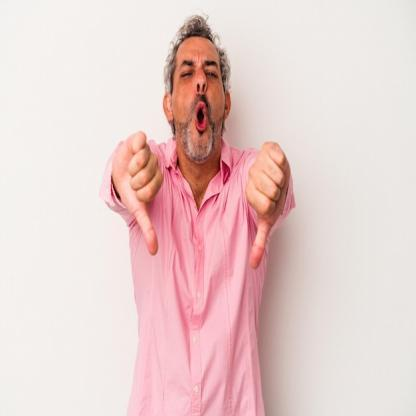thumb_down: (108, 128, 170, 258), (242, 137, 294, 273)
